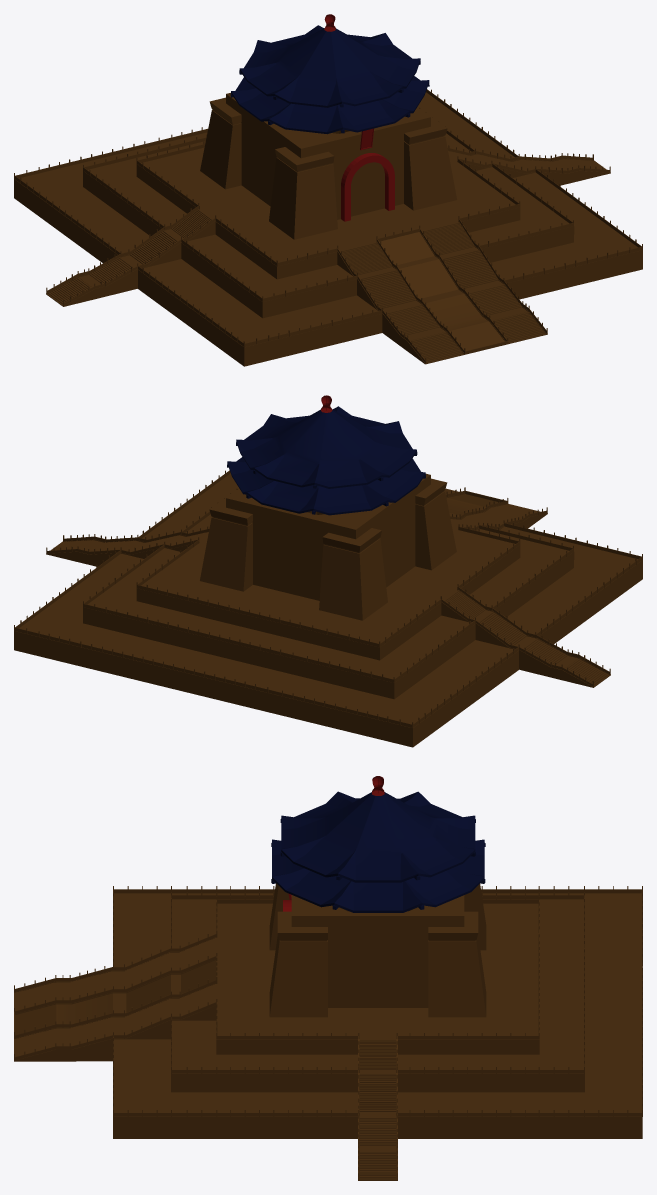
The model's file is memorial_hall.fbx.
3 views of the same model, one above another, from view 1: azimuth 30°, elevation 25°; view 2: azimuth 150°, elevation 25°; view 3: azimuth 270°, elevation 25° (orthographic). The views are drawn at different scales.
Visible parts, largest first — view 1: Box002, Box003, Box004, Rectangle001, Circle005, Box001, Rectangle004, Circle006, Line011, Line012, Shape003, Line013 (+20 smaller); view 2: Box002, Box003, Box004, Rectangle001, Box001, Circle005, Circle006, Line011, Line012, Shape003, Line013, Line021 (+9 smaller); view 3: Box002, Box003, Box004, Circle005, Rectangle001, Box001, Circle006, Line011, Rectangle004, Line012, Shape003, Line019 (+17 smaller).
Part boxes in pixels (box(x1,y1,x2,y2)): Box002: box(14, 92, 642, 366); Box003: box(83, 133, 574, 318); Box004: box(136, 147, 520, 279); Rectangle001: box(200, 97, 456, 239); Circle005: box(240, 25, 420, 105); Box001: box(226, 93, 430, 219); Rectangle004: box(379, 232, 504, 350); Circle006: box(231, 76, 428, 132); Line011: box(14, 89, 641, 346); Line012: box(83, 130, 573, 301); Shape003: box(14, 89, 642, 347); Line013: box(137, 144, 519, 266); Box002: box(14, 473, 642, 747); Box003: box(83, 514, 574, 699); Box004: box(136, 528, 520, 660); Rectangle001: box(200, 478, 456, 620); Box001: box(226, 473, 430, 600); Circle005: box(236, 406, 416, 486); Circle006: box(227, 457, 425, 513); Line011: box(15, 470, 642, 727); Line012: box(83, 511, 573, 682); Shape003: box(14, 470, 642, 728); Line013: box(137, 527, 519, 647); Line021: box(441, 602, 594, 687); Box002: box(113, 893, 642, 1138); Box003: box(171, 899, 584, 1092); Box004: box(216, 903, 539, 1054); Circle005: box(281, 791, 475, 880); Rectangle001: box(269, 883, 486, 1017); Box001: box(291, 895, 464, 1007); Circle006: box(272, 839, 484, 910); Line011: box(113, 889, 642, 1116); Rectangle004: box(15, 960, 216, 1034); Line012: box(171, 895, 584, 1073); Shape003: box(113, 886, 642, 1116); Line019: box(14, 1005, 216, 1061).
Bounding box in the file's own units: 173 × 66.03 × 150.
